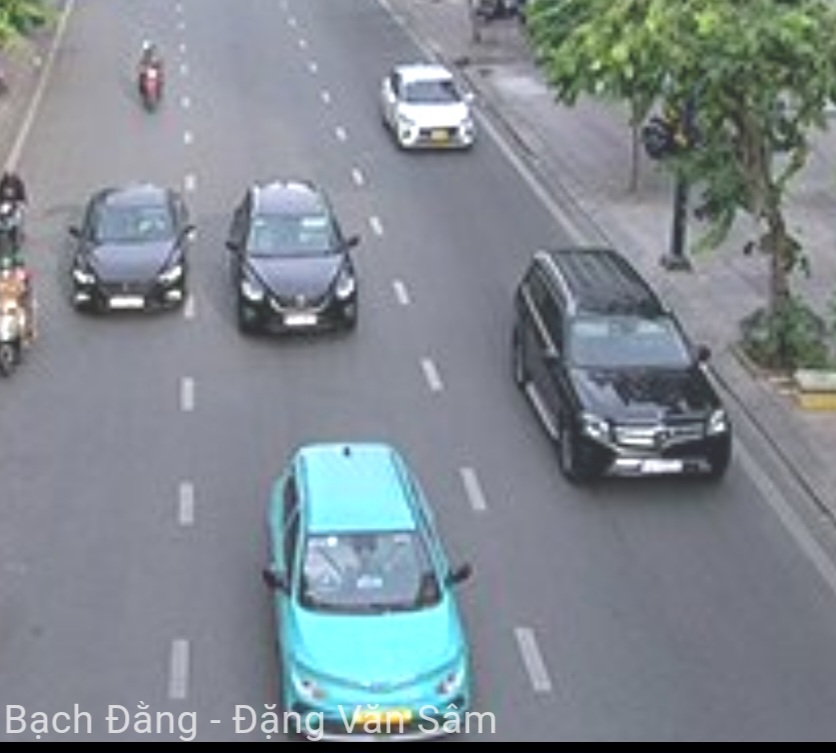car: (266, 439, 471, 725), (512, 251, 731, 484), (230, 179, 358, 337), (70, 183, 189, 317), (380, 63, 478, 152)
